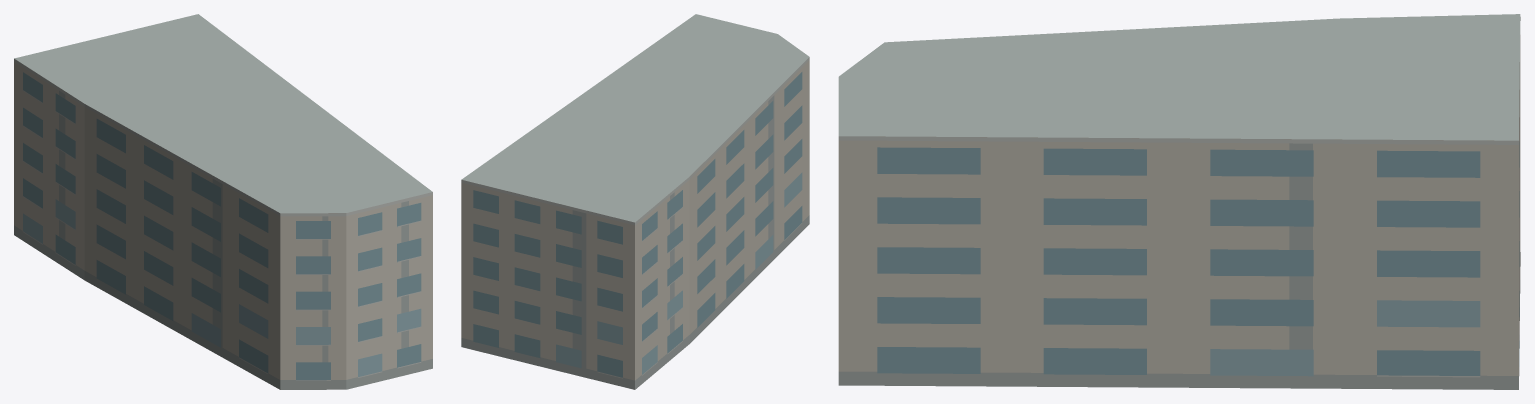
Rendered from residential-667c07bd-14c8-4f2c-ade7-ef04dc5d8fdd.glb.
3 renders of one model, left to right at view 1: azimuth 30°, elevation 25°; view 2: azimuth 150°, elevation 25°; view 3: azimuth 270°, elevation 25°, orthographic. The views are drawn at different scales.
Visible parts, largest first — view 1: residential-667c07bd-14c8-4f2c-ade7-ef04dc5d8fdd.tmp; view 2: residential-667c07bd-14c8-4f2c-ade7-ef04dc5d8fdd.tmp; view 3: residential-667c07bd-14c8-4f2c-ade7-ef04dc5d8fdd.tmp.
Boxes of the visible parts, bbox=[...] form: residential-667c07bd-14c8-4f2c-ade7-ef04dc5d8fdd.tmp: bbox=[14, 14, 432, 389]; residential-667c07bd-14c8-4f2c-ade7-ef04dc5d8fdd.tmp: bbox=[461, 14, 809, 389]; residential-667c07bd-14c8-4f2c-ade7-ef04dc5d8fdd.tmp: bbox=[838, 14, 1520, 389].
Size of the model in its own units: 15.26 by 14 by 34.72.
